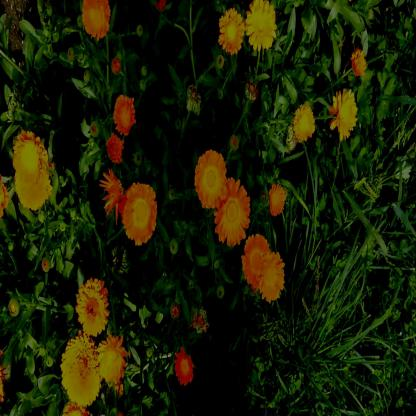marigold: (61, 336, 101, 403), (15, 135, 49, 207), (214, 182, 250, 244), (122, 183, 155, 246), (76, 279, 108, 334), (196, 151, 226, 205), (328, 86, 357, 138), (243, 236, 268, 291), (81, 0, 111, 42), (98, 335, 124, 382), (218, 10, 245, 53), (100, 172, 122, 223), (262, 254, 284, 302), (115, 92, 137, 134), (294, 101, 316, 141), (172, 346, 194, 384), (267, 182, 286, 215), (351, 48, 367, 76), (108, 135, 121, 159)
